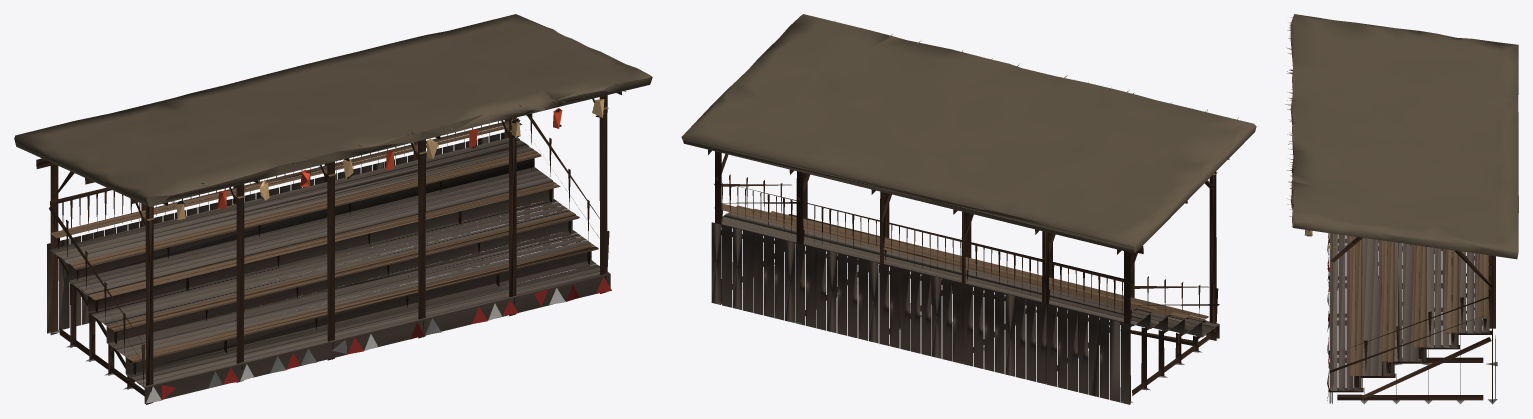
Rendered from SM_Grandstand_Wood.glb.
The picture shows the model from 3 angles, left to right: view 1: azimuth 30°, elevation 25°; view 2: azimuth 150°, elevation 25°; view 3: azimuth 270°, elevation 25°; orthographic projection. The views are drawn at different scales.
Parts seen in each view (by area): view 1: SM_Grandstand_Wood; view 2: SM_Grandstand_Wood; view 3: SM_Grandstand_Wood.
Part boxes in pixels (x1=…): SM_Grandstand_Wood: x1=14, y1=14, x2=652, y2=404; SM_Grandstand_Wood: x1=681, y1=14, x2=1256, y2=404; SM_Grandstand_Wood: x1=1285, y1=14, x2=1518, y2=404.
Bounding box in the file's own units: 13.07 × 5.71 × 6.2.
